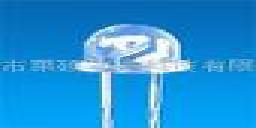LED: (80, 20, 189, 128)
